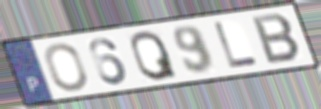6: (88, 36, 130, 86)
9: (172, 24, 216, 76)
B: (249, 12, 304, 66)
L: (211, 20, 261, 70)
O: (42, 41, 90, 93)
Q: (128, 28, 180, 82)
